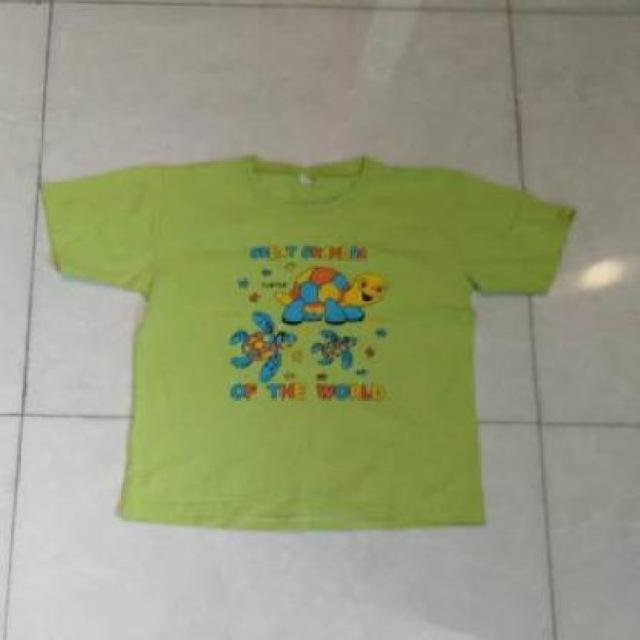shirt: (34, 146, 595, 540)
